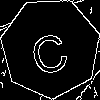C: (25, 23, 72, 77)
